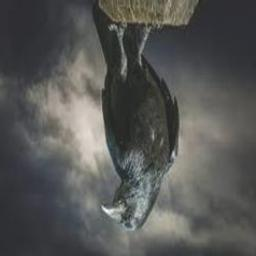Crow: (91, 6, 179, 231)
